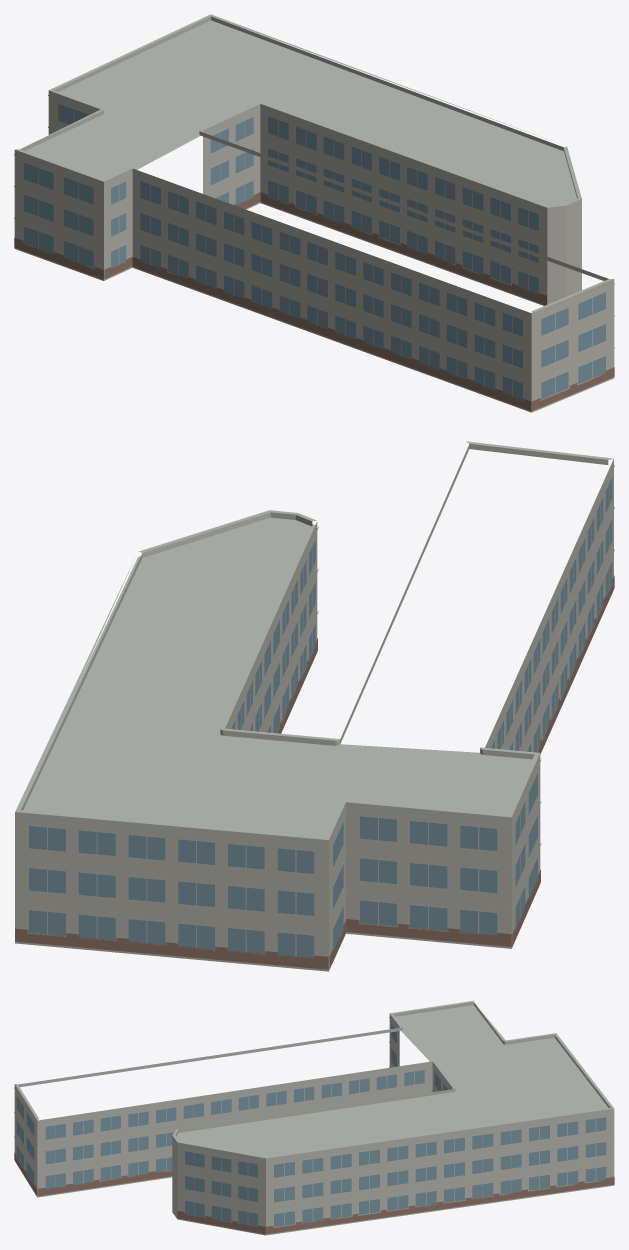
File: public-7ca9950b-ef80-4f55-a0a2-c9af2f1e5794.glb
3 renders of one model, top to bottom at view 1: azimuth 30°, elevation 25°; view 2: azimuth 150°, elevation 25°; view 3: azimuth 270°, elevation 25°, orthographic. The views are drawn at different scales.
Parts seen in each view (by area): view 1: public-7ca9950b-ef80-4f55-a0a2-c9af2f1e5794; view 2: public-7ca9950b-ef80-4f55-a0a2-c9af2f1e5794; view 3: public-7ca9950b-ef80-4f55-a0a2-c9af2f1e5794.
Boxes of the visible parts, x1,y1,x2,y2 form: public-7ca9950b-ef80-4f55-a0a2-c9af2f1e5794: (14,14,614,412); public-7ca9950b-ef80-4f55-a0a2-c9af2f1e5794: (15,441,614,971); public-7ca9950b-ef80-4f55-a0a2-c9af2f1e5794: (14,1000,614,1235).
Size of the model in its own units: 40.35 by 9.15 by 64.68.
